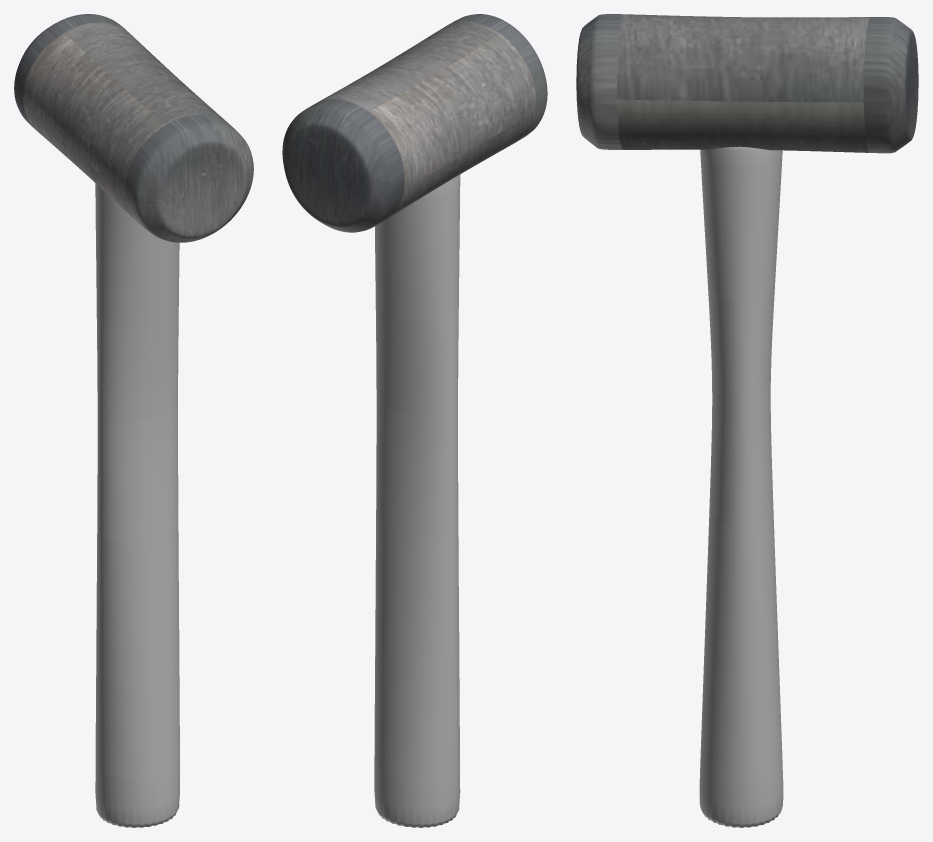
File: hammer.fbx
The picture shows the model from 3 angles, left to right: view 1: azimuth 30°, elevation 25°; view 2: azimuth 150°, elevation 25°; view 3: azimuth 270°, elevation 25°; orthographic projection. The views are drawn at different scales.
Parts seen in each view (by area): view 1: Cylinder.001, Cylinder.000; view 2: Cylinder.001, Cylinder.000; view 3: Cylinder.001, Cylinder.000.
Boxes of the visible parts, box(x1,y1,x2,y2) form: Cylinder.001: box(95, 183, 179, 827); Cylinder.000: box(14, 14, 253, 242); Cylinder.001: box(374, 174, 460, 827); Cylinder.000: box(282, 14, 547, 232); Cylinder.001: box(699, 146, 783, 827); Cylinder.000: box(576, 14, 918, 153).
Bounding box in the file's own units: 33.67 × 184 × 72.11.
